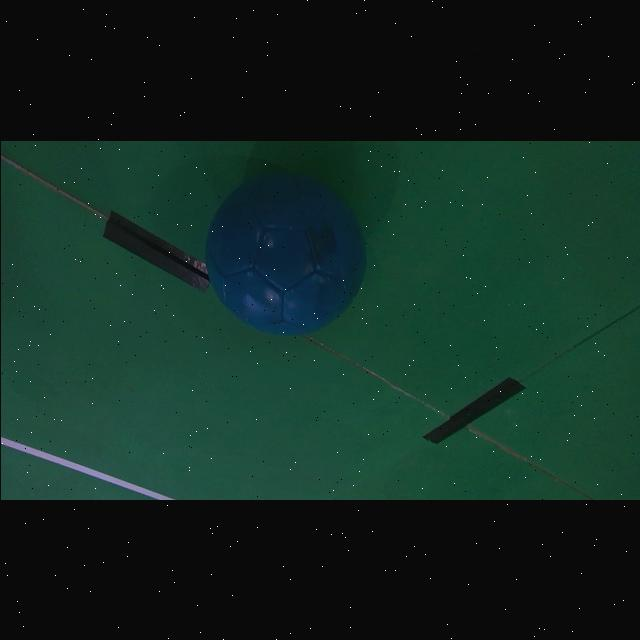B: (204, 174, 365, 334)
